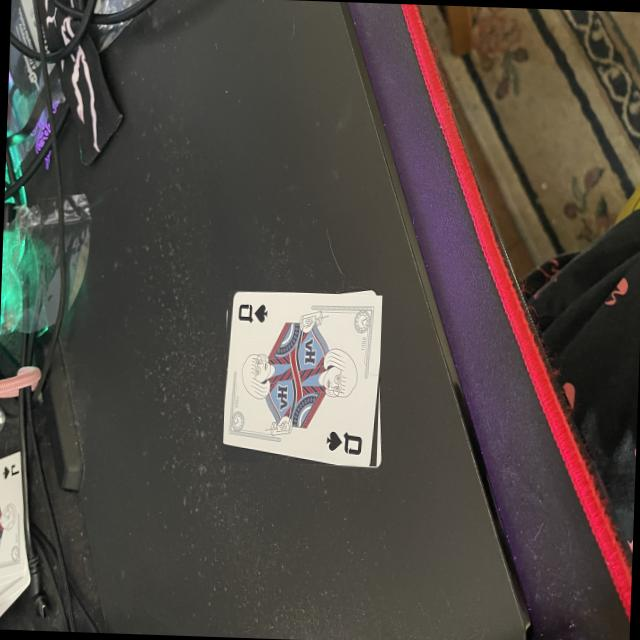Queen of spades: (223, 293, 382, 463)
